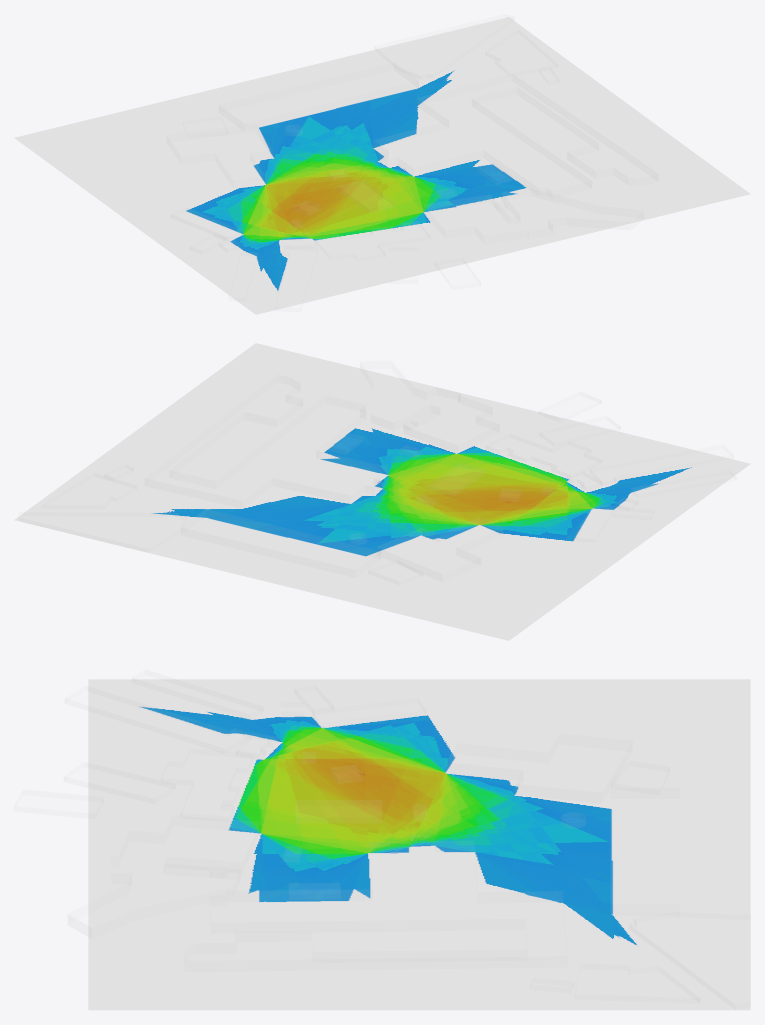
The model's file is agora_base.glb.
3 renders of one model, top to bottom at view 1: azimuth 30°, elevation 25°; view 2: azimuth 150°, elevation 25°; view 3: azimuth 270°, elevation 25°, orthographic. The views are drawn at different scales.
Visible parts, largest first — view 1: heatmap_3_agora_color; view 2: heatmap_3_agora_color; view 3: heatmap_3_agora_color.
Part boxes in pixels (<box>): heatmap_3_agora_color: <box>14,17,750,314</box>; heatmap_3_agora_color: <box>14,343,750,640</box>; heatmap_3_agora_color: <box>88,679,750,1010</box>.
Bounding box in the file's own units: 1.2 × 0.019 × 1.11.
Materials: 25 (1 with a texture image).
